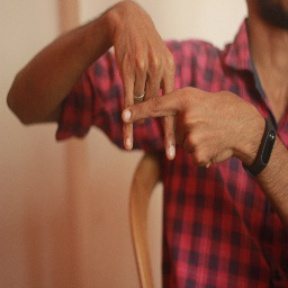H: (104, 52, 195, 173)
